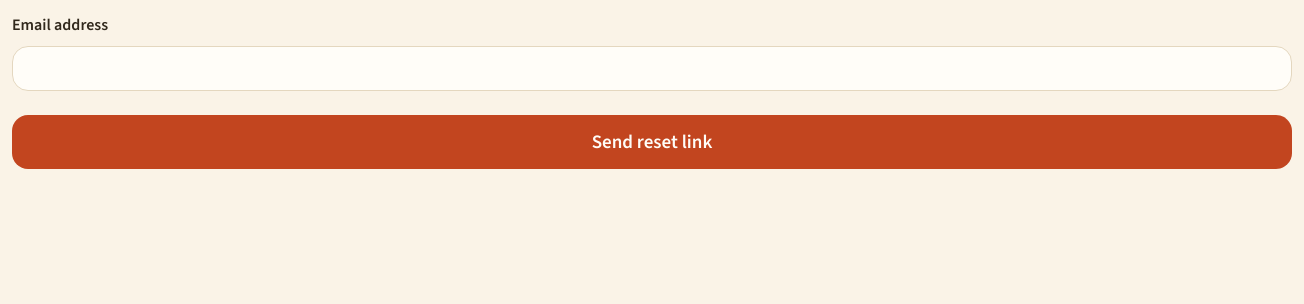
Scenario: ForgotPasswordForm › does not send a malformed address
The width and height of the screenshot is (1304, 304).
In the field labelled "Email address": (652, 68) [12,46,1292,91], type "nope"
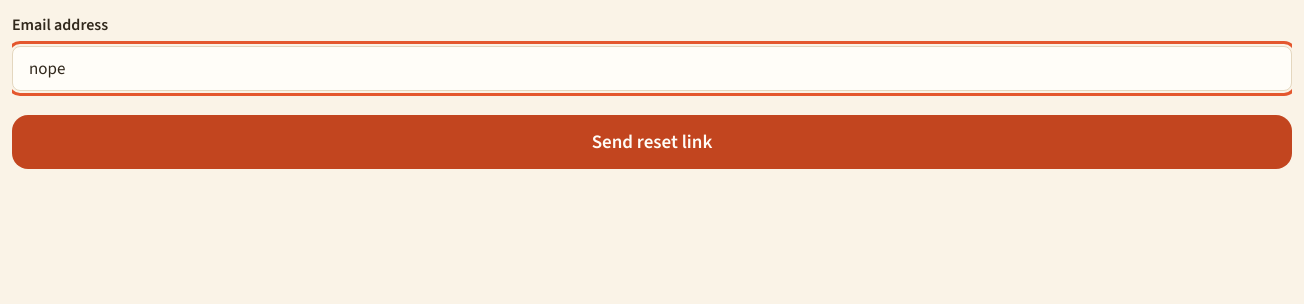
Click the button "Send reset link": (652, 142) [12,115,1292,169]
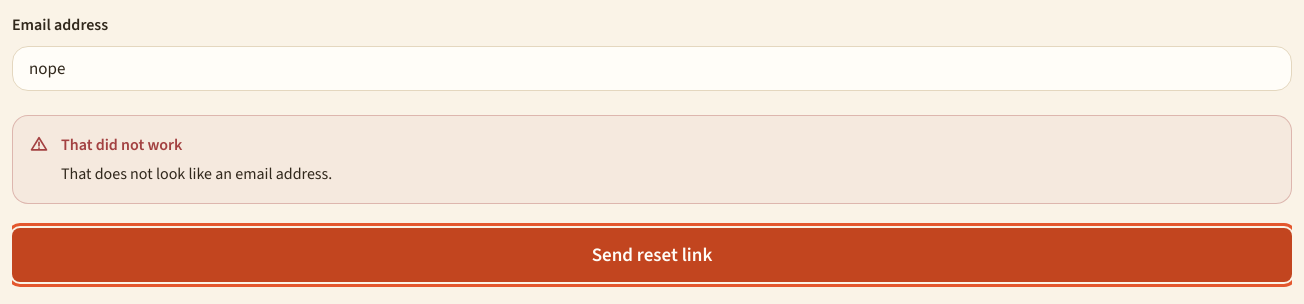
Expected: the message shows "does not look like an email", [61,163,332,184]
